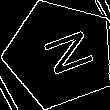N_W: (28, 26, 91, 82)
